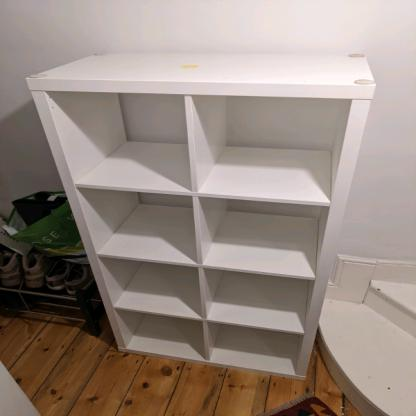lamp: (22, 54, 377, 384)
